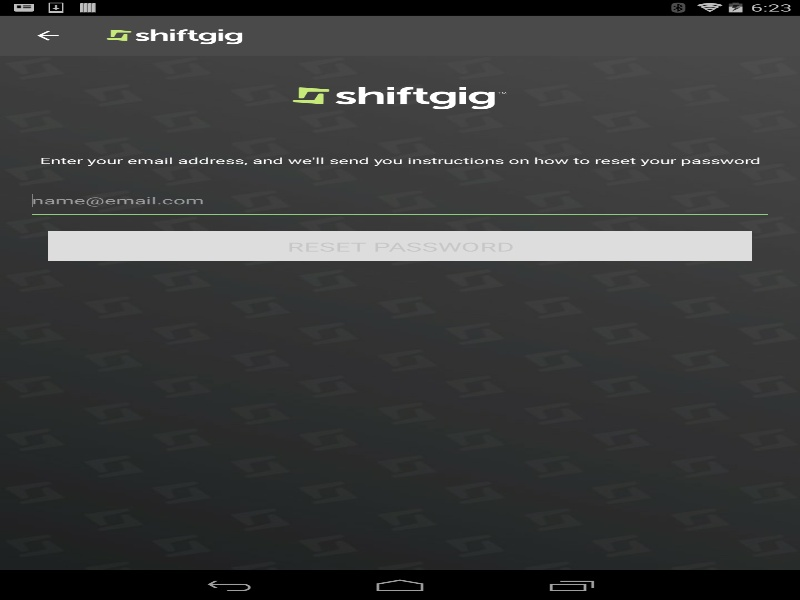Button: (48, 230, 752, 260), (10, 15, 85, 55)
Input: (32, 186, 768, 214)
